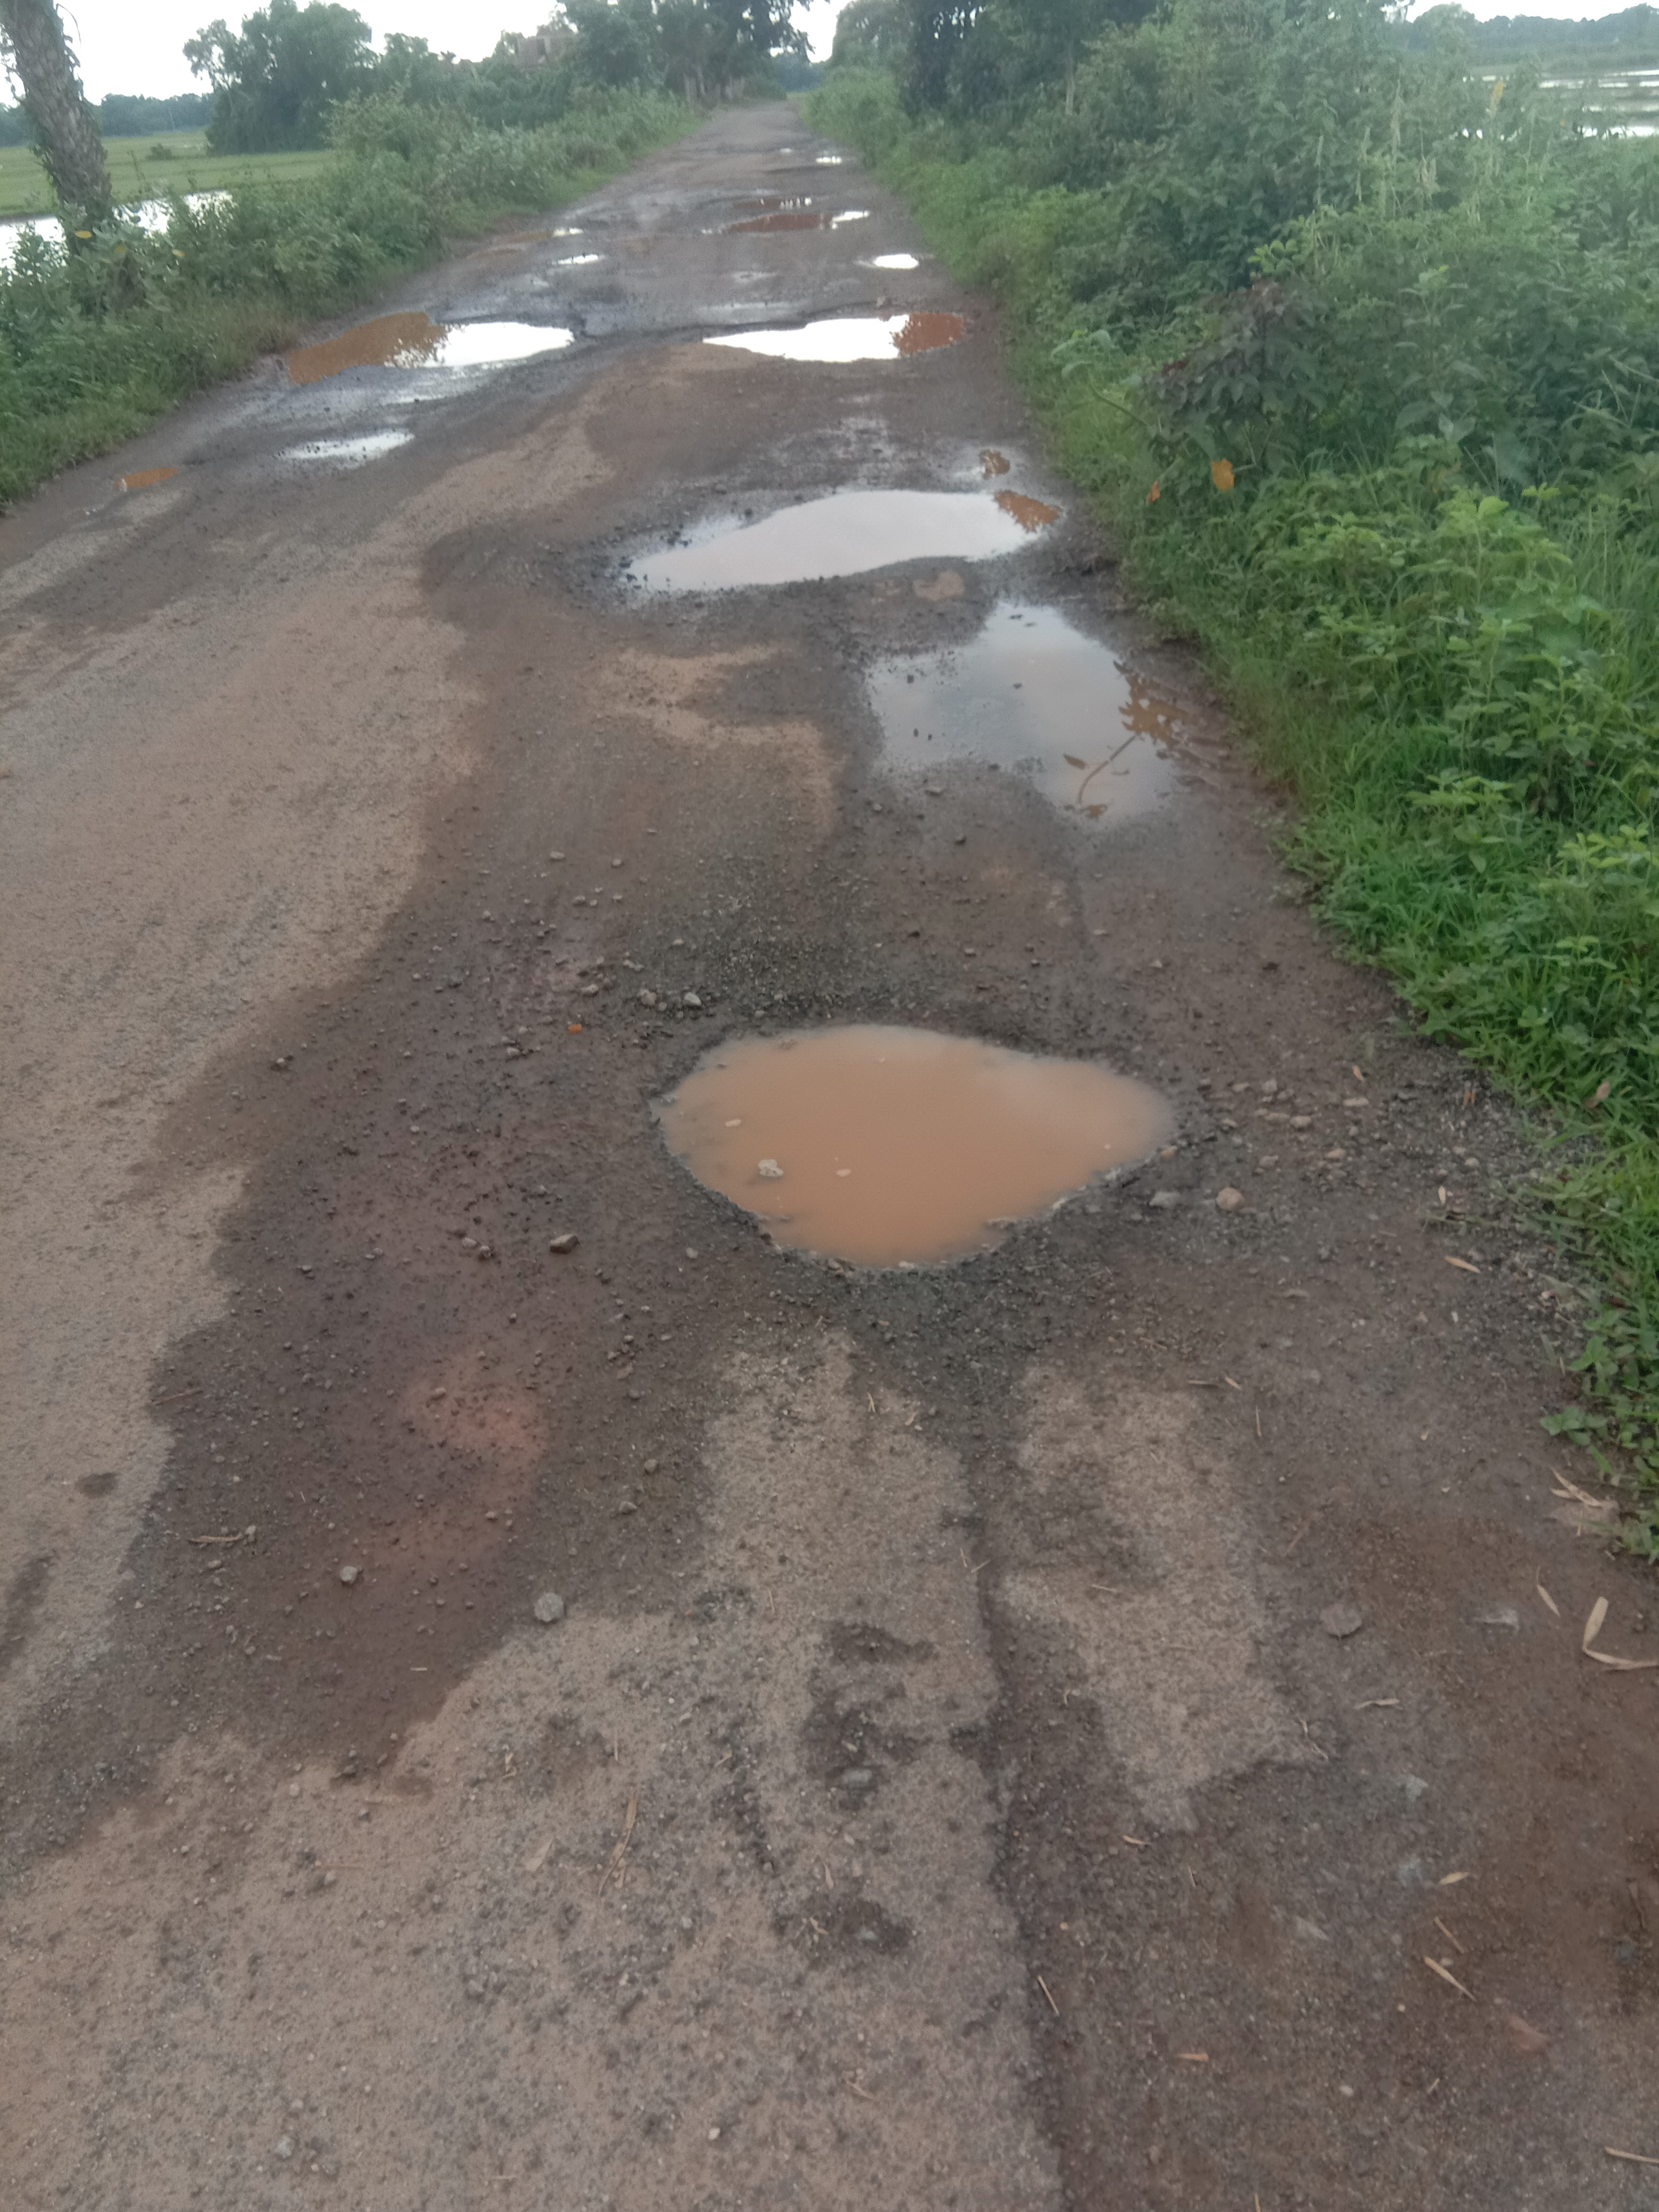potholes: (599, 425, 1204, 846), (643, 1000, 1206, 1287), (260, 308, 594, 418), (695, 291, 962, 387), (218, 401, 423, 493)
